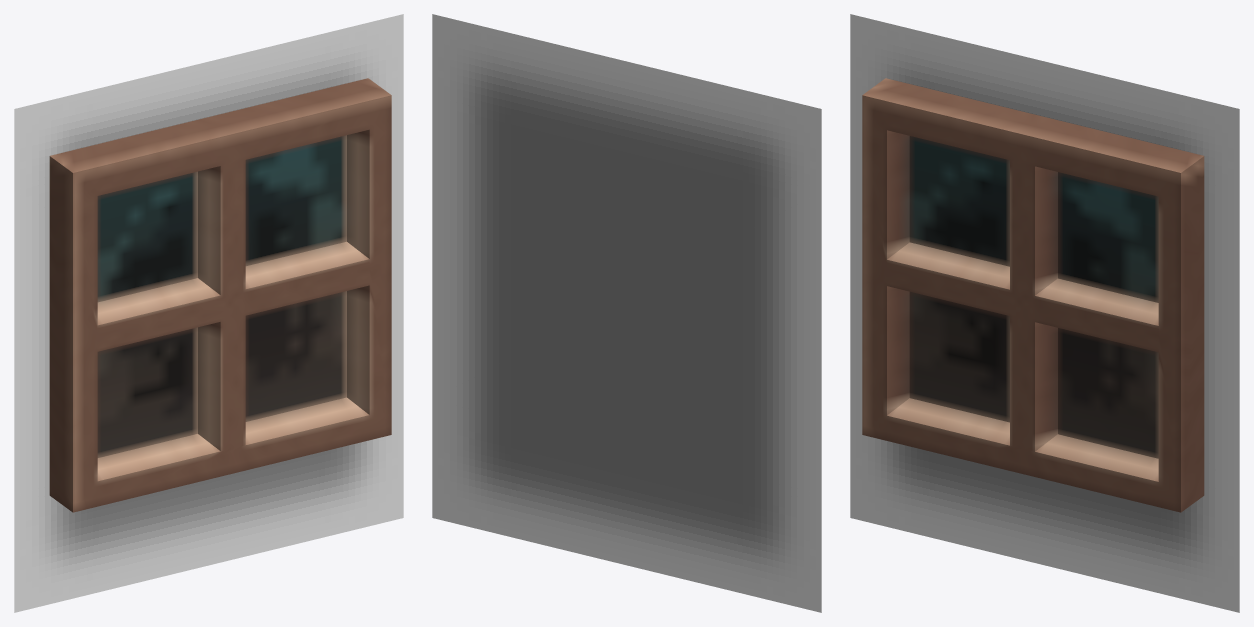
The model's file is window2.fbx.
3 views of the same model, side by side, from view 1: azimuth 30°, elevation 25°; view 2: azimuth 150°, elevation 25°; view 3: azimuth 330°, elevation 25° (orthographic).
Parts seen in each view (by area): view 1: window3, shadow1; view 2: shadow1; view 3: window3, shadow1.
Boxes of the visible parts, <box> form: window3: <box>49,78,391,512</box>; shadow1: <box>14,14,403,612</box>; shadow1: <box>432,14,821,612</box>; window3: <box>862,78,1204,512</box>; shadow1: <box>850,14,1239,612</box>.
Size of the model in its own units: 0.929 by 1.15 by 0.0965.
